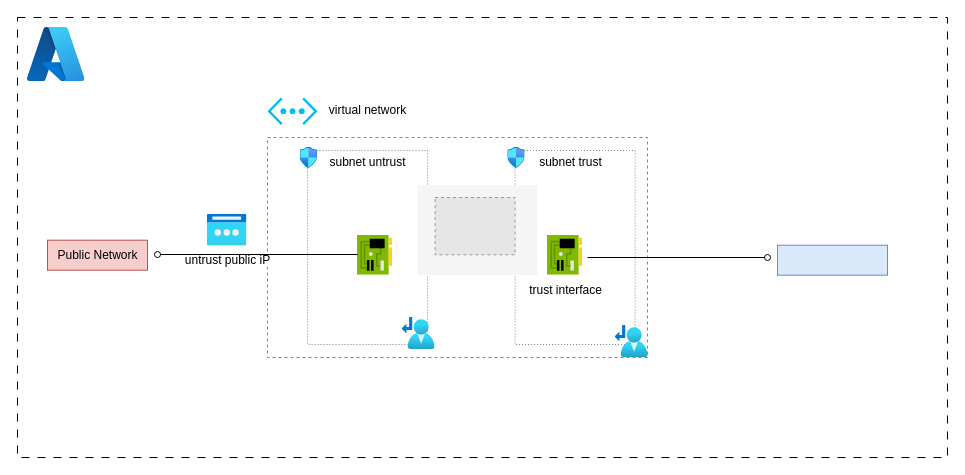
The diagram is 965 pixels wide and 475 high, and some of its shapes have lost their labels. Grey dashed boxes stand in for pictures. Here are the shapes that lost their labels. From the top down, the centre of each, then its label:
the point at 374,255: untrust interface
the point at 832,259: Private Network
